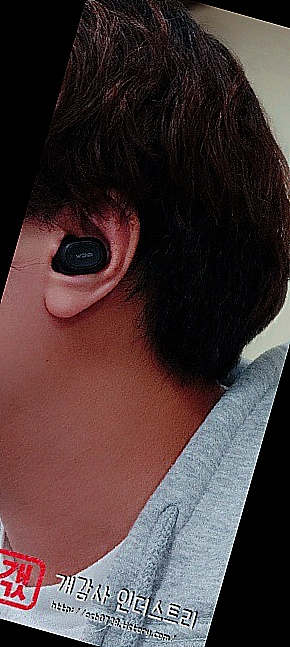earphone: (22, 173, 149, 334)
